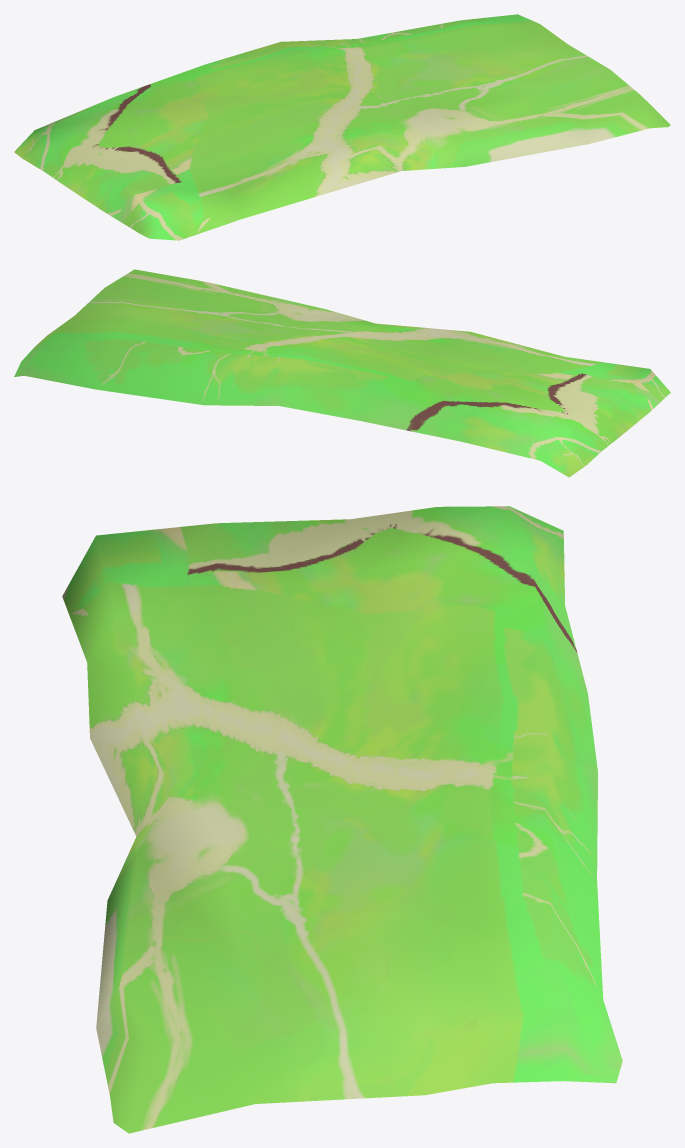
The model's file is ground_fairway.fbx.
The picture shows the model from 3 angles, top to bottom: view 1: azimuth 30°, elevation 25°; view 2: azimuth 150°, elevation 25°; view 3: azimuth 270°, elevation 25°; orthographic projection. The views are drawn at different scales.
Parts seen in each view (by area): view 1: ground1; view 2: ground1; view 3: ground1.
Part boxes in pixels (x1,y1,x2,y2): ground1: (14, 14, 670, 240); ground1: (14, 269, 670, 477); ground1: (62, 506, 622, 1133).
Bounding box in the file's own units: 3209 × 429 × 1400.
